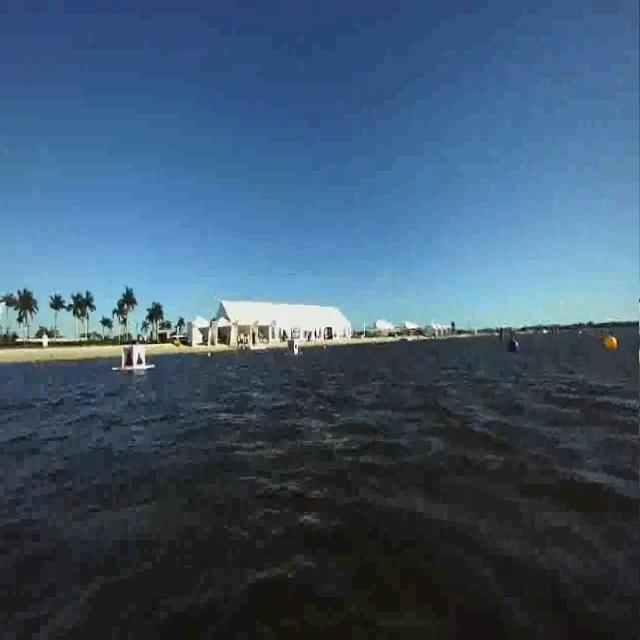blue-buoy: (508, 334, 520, 356)
yellow-buoy: (605, 335, 618, 353)
